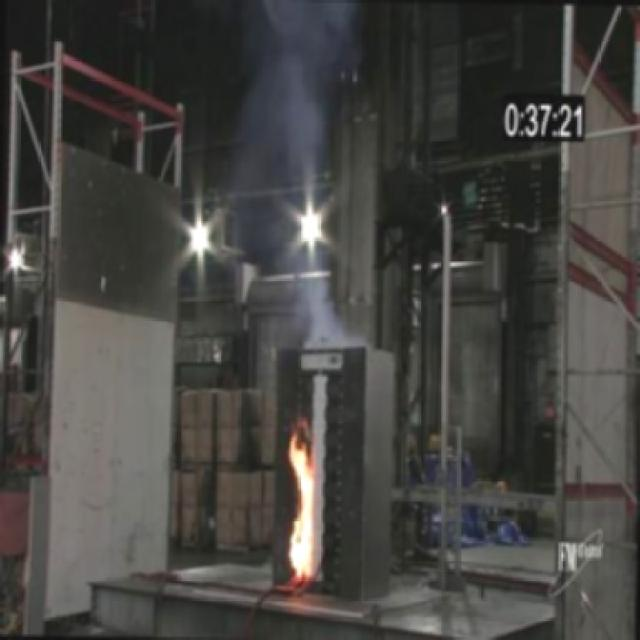fire: (279, 424, 323, 578)
